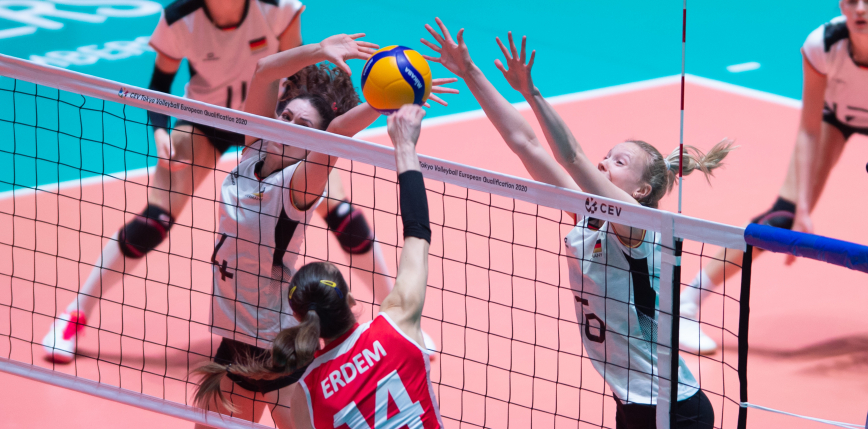ball: (361, 45, 433, 118)
